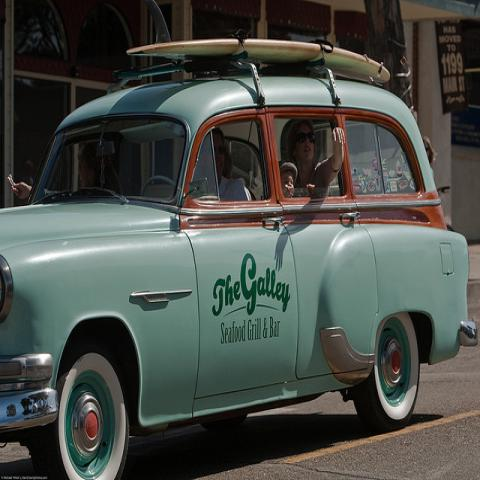car: (0, 59, 479, 476)
